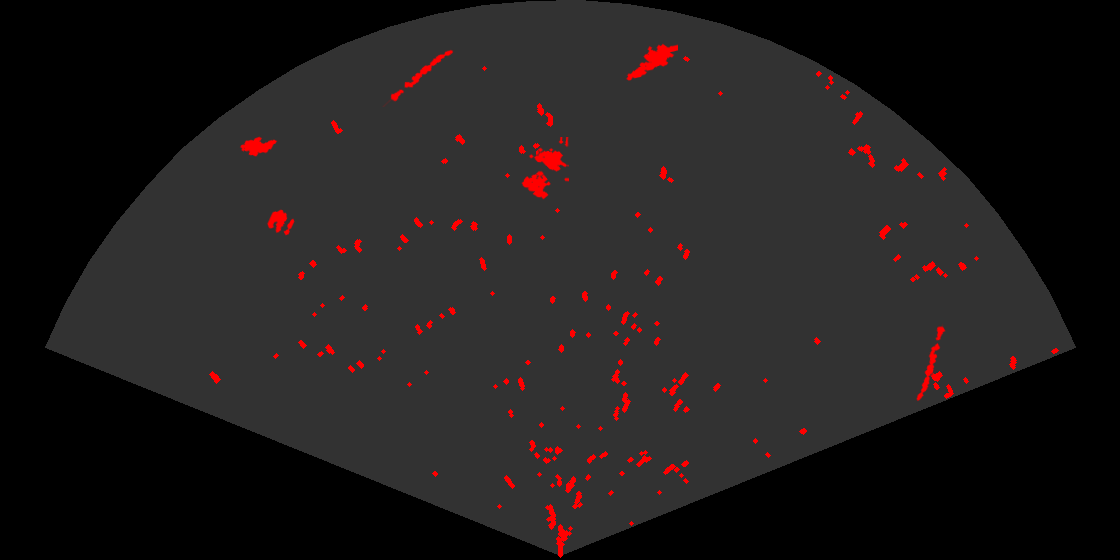AUV: (238, 135, 279, 158)
ball: (266, 208, 296, 237)
cage: (520, 137, 569, 201)
chain: (381, 48, 455, 107), (915, 323, 947, 403)
frogman: (624, 42, 678, 82)
